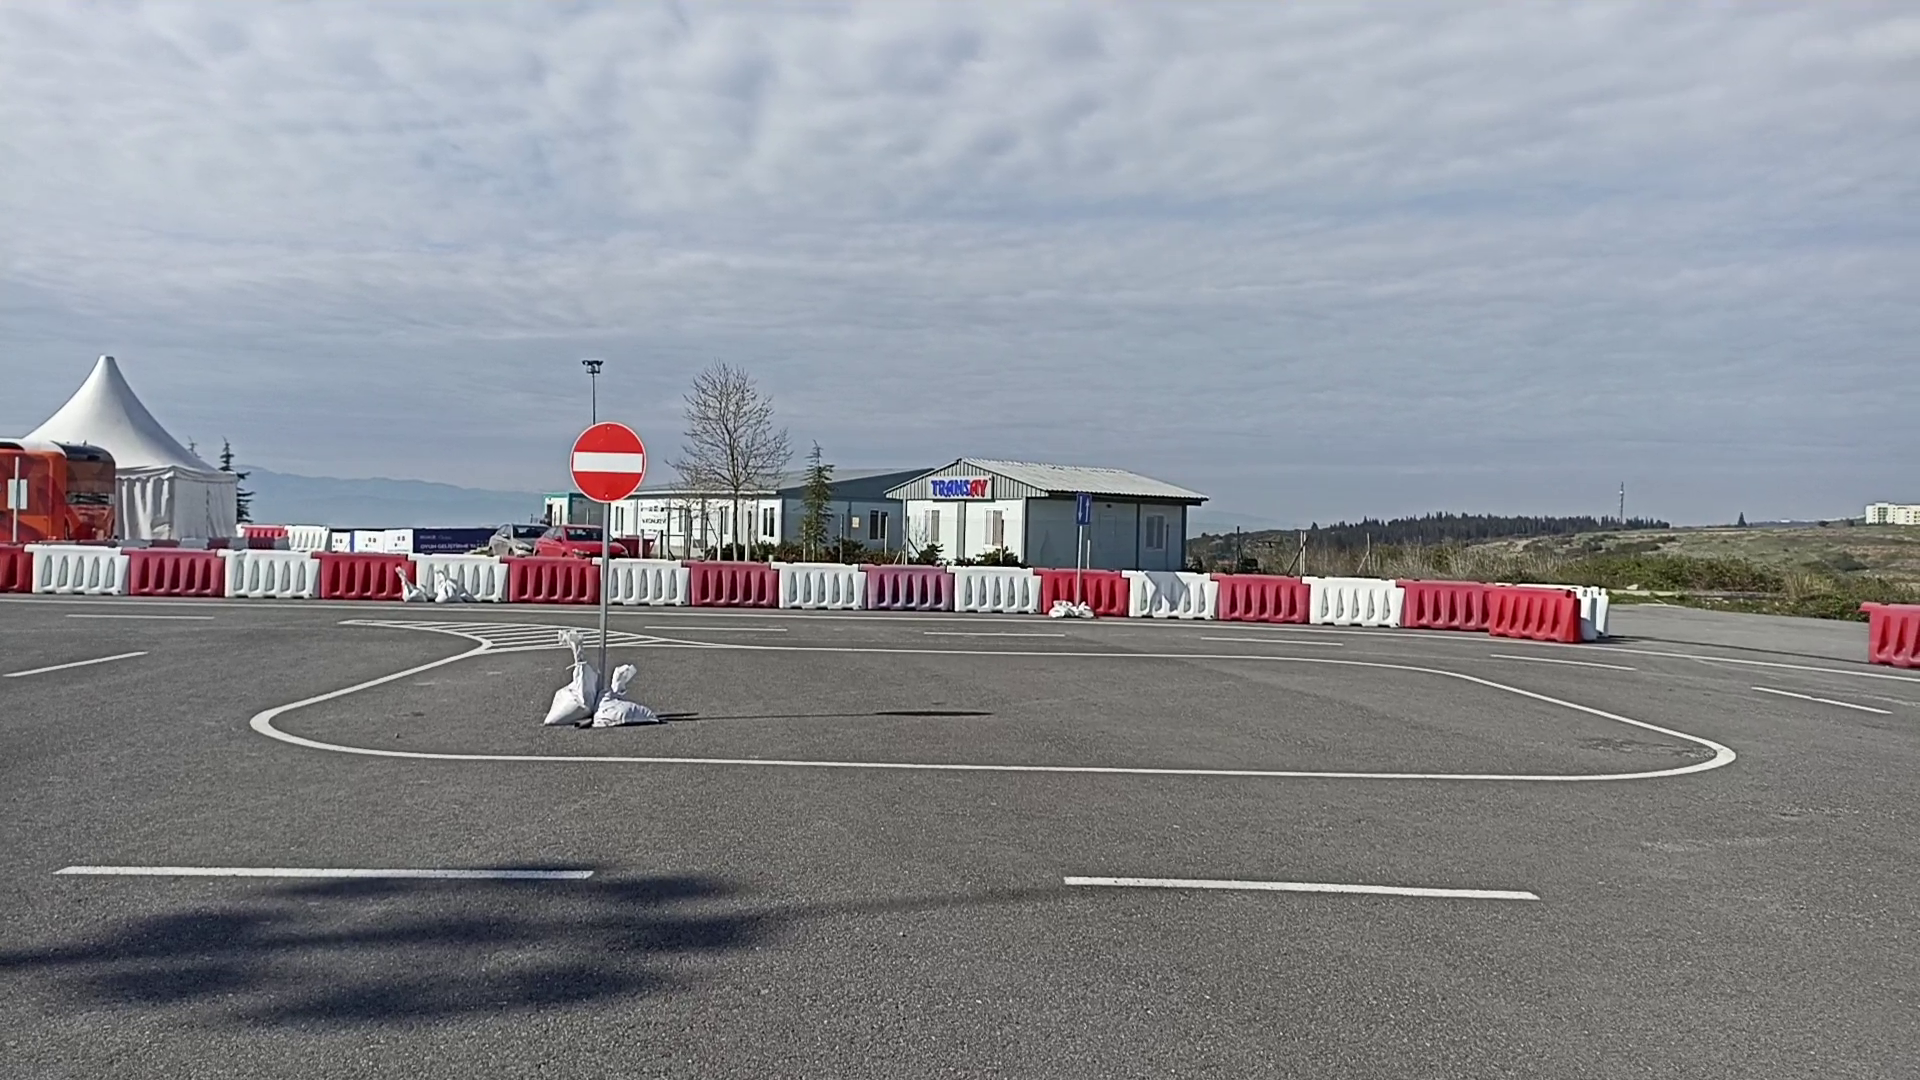noentryway: (566, 418, 649, 506)
